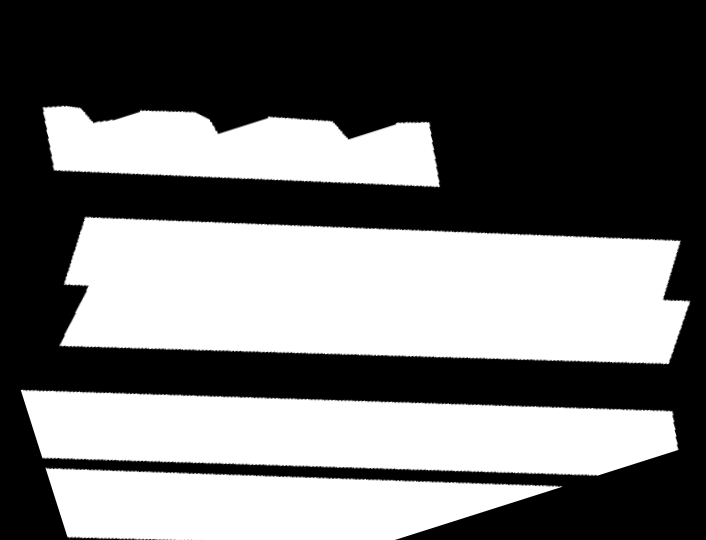parkingspot: (60, 217, 690, 364), (21, 390, 679, 476), (46, 468, 562, 540), (43, 106, 440, 187)
